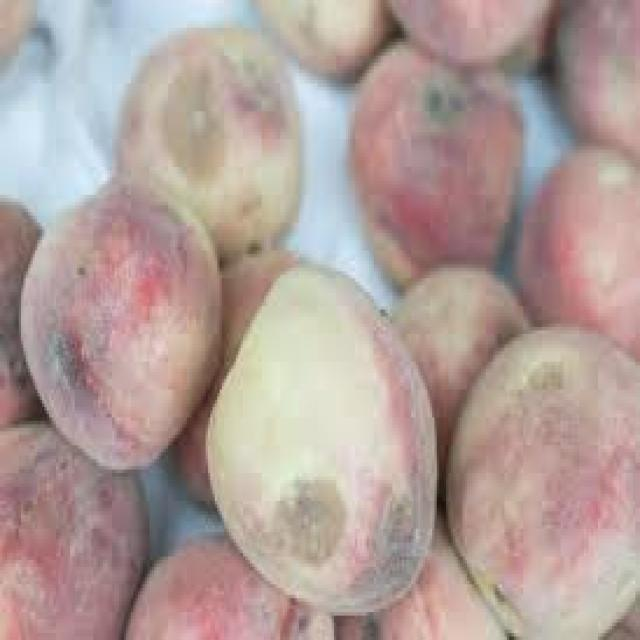organic waste: (203, 257, 434, 616), (443, 320, 638, 637), (17, 181, 220, 469), (112, 24, 299, 250), (352, 42, 518, 278), (378, 257, 526, 508), (166, 250, 299, 512), (0, 410, 145, 636), (514, 139, 638, 362), (332, 501, 509, 636), (119, 532, 334, 637), (551, 0, 638, 153), (250, 0, 399, 77), (383, 0, 551, 63), (0, 195, 44, 421), (0, 0, 33, 52), (602, 595, 638, 636)
